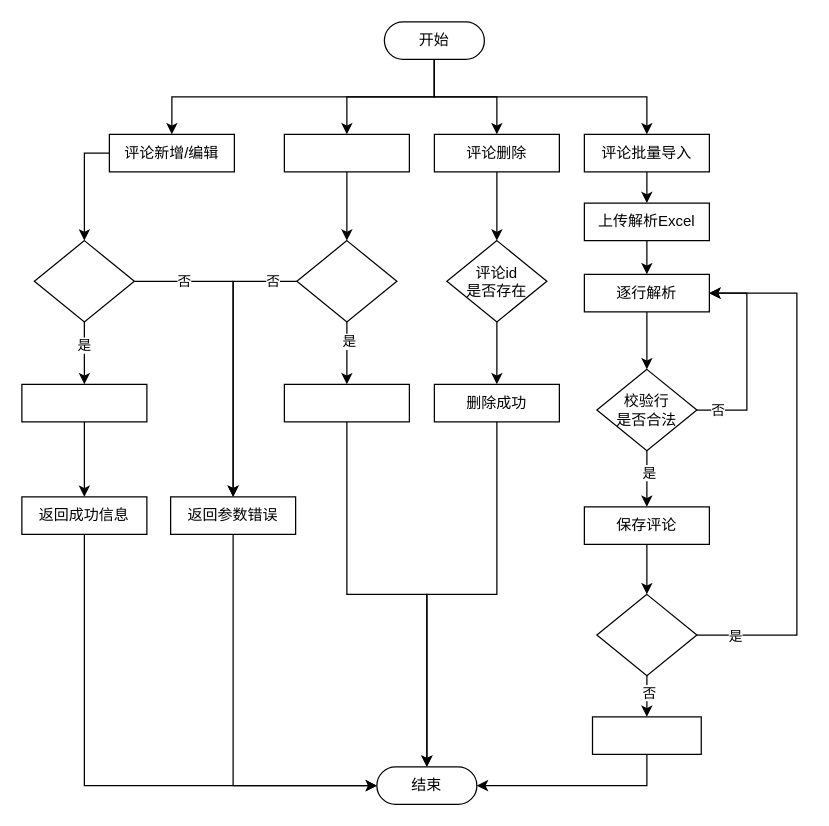
The diagram is 829 pixels wide and 826 high, and some of its shapes have lost their labels. Here are the shapes that lost their labels. From the top down, the centre of each, then its label:
At pixel 346 152: "评论查询".
At pixel 83 280: "校验必填项 是否完整".
At pixel 346 280: "校验 筛选参数".
At pixel 84 402: "保存或更新评论".
At pixel 346 402: "返回查询列表".
At pixel 646 634: "是否存在 下一行".
At pixel 646 735: "返回导入结果".
